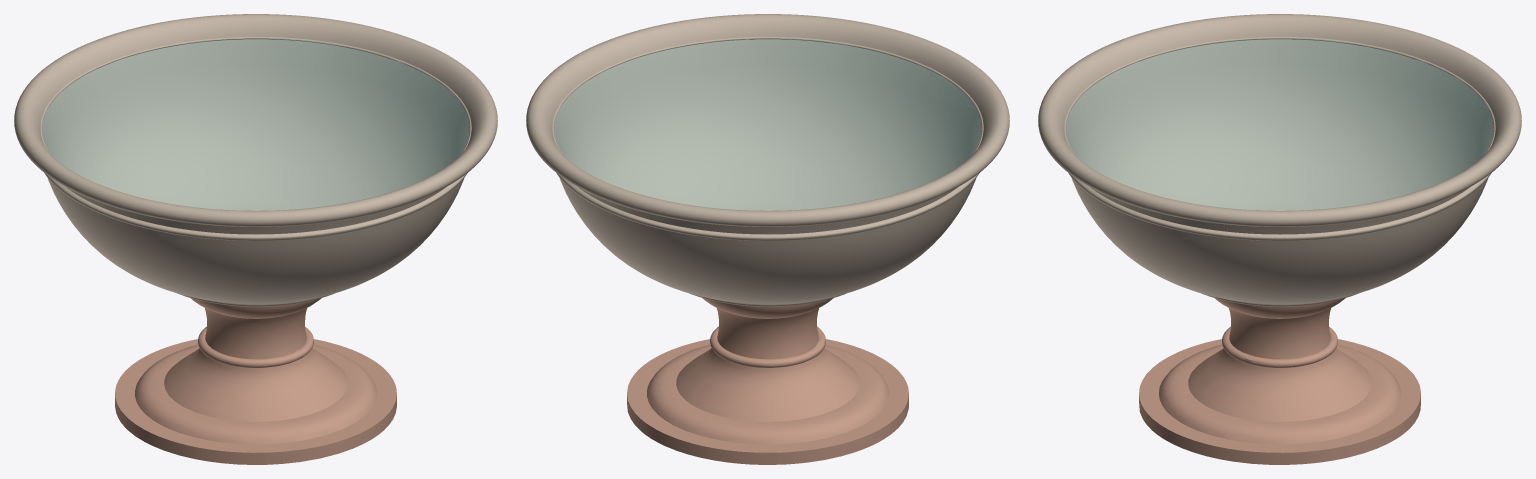
3 renders of one model, left to right at view 1: azimuth 30°, elevation 25°; view 2: azimuth 150°, elevation 25°; view 3: azimuth 270°, elevation 25°, orthographic.
Parts seen in each view (by area): view 1: Kiyor2, Circle, Kano; view 2: Kiyor2, Circle, Kano; view 3: Kiyor2, Circle, Kano.
Part boxes in pixels (left/top/right/bottom): Kiyor2: left=14, top=14, right=497, bottom=306; Circle: left=42, top=39, right=469, bottom=210; Kano: left=115, top=298, right=396, bottom=464; Kiyor2: left=526, top=14, right=1009, bottom=306; Circle: left=554, top=39, right=981, bottom=210; Kano: left=627, top=298, right=908, bottom=464; Kiyor2: left=1038, top=14, right=1521, bottom=306; Circle: left=1066, top=39, right=1493, bottom=210; Kano: left=1139, top=298, right=1420, bottom=464.
Size of the model in its own units: 1.2 by 0.8 by 1.2.
